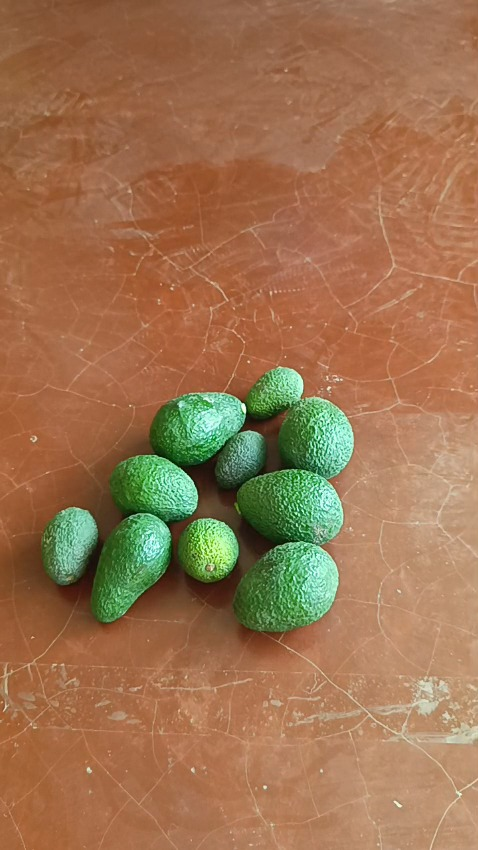Primera: (232, 541, 338, 630), (235, 468, 342, 544), (149, 391, 245, 464), (277, 397, 354, 477)
Segunda: (90, 513, 173, 622), (107, 453, 198, 523)
Tercera: (40, 505, 100, 586), (175, 516, 240, 582), (244, 366, 304, 420), (214, 430, 266, 489)
